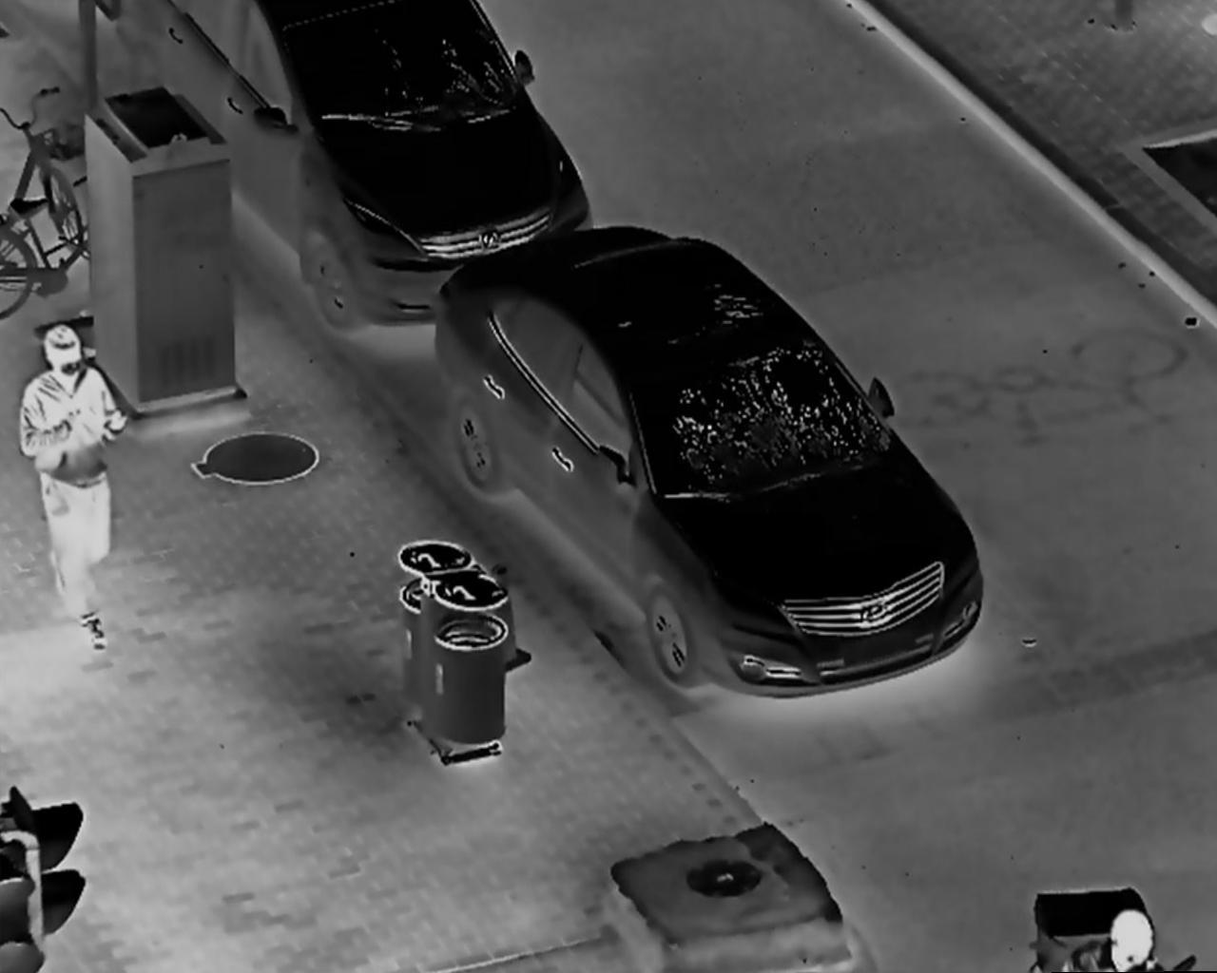person: (18, 315, 133, 660), (1059, 904, 1179, 973)
